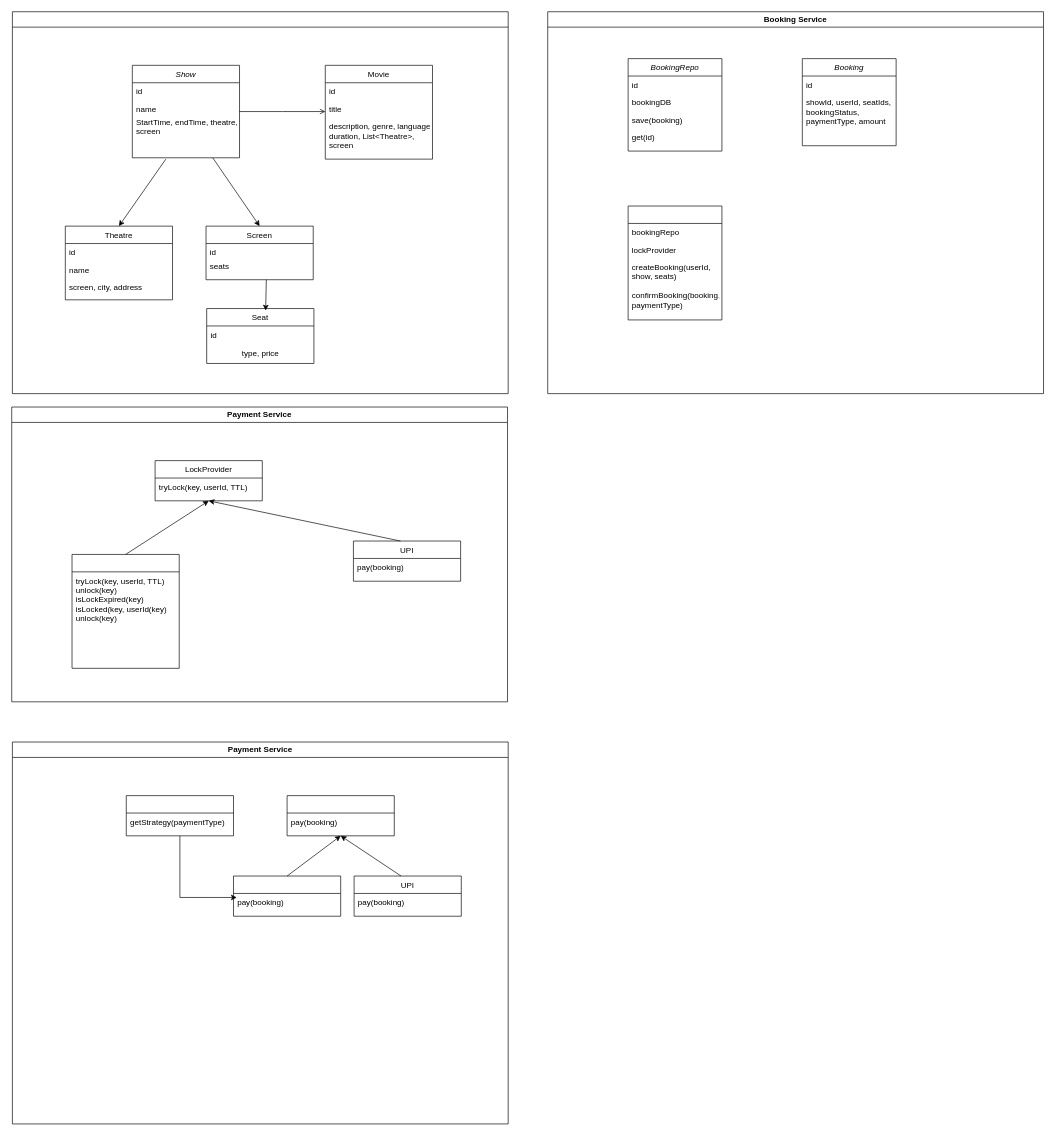
Some shapes in this 1055 by 1136 pixel diagram are drawn without their labels. Here are the shapes that lost their labels. From the top down, the box of each, then its label:
(12, 11, 508, 394): Theatre Partner/Admin B2B
(627, 205, 722, 320): BookingService
(71, 554, 179, 668): RedisLockProvider
(126, 795, 233, 836): Payment Strategy Factory
(286, 795, 394, 836): Payment Strategy
(233, 875, 341, 916): Netbanking
